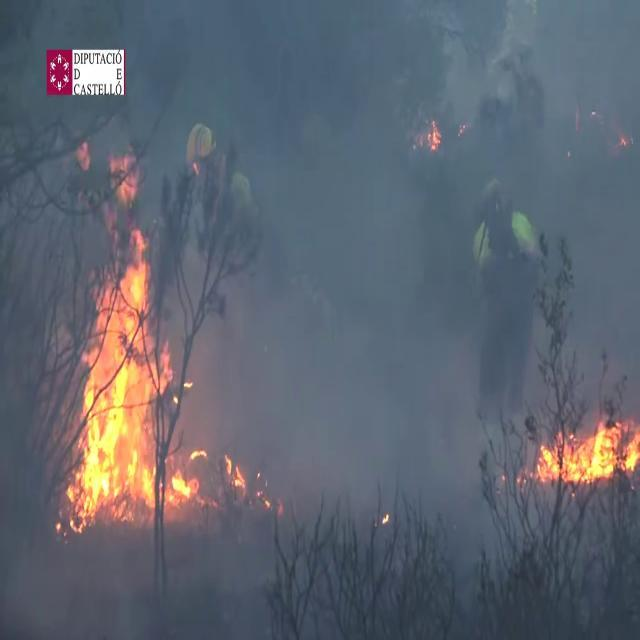Fire: (62, 206, 198, 524), (532, 403, 640, 488)
Smoke: (211, 2, 611, 546)
